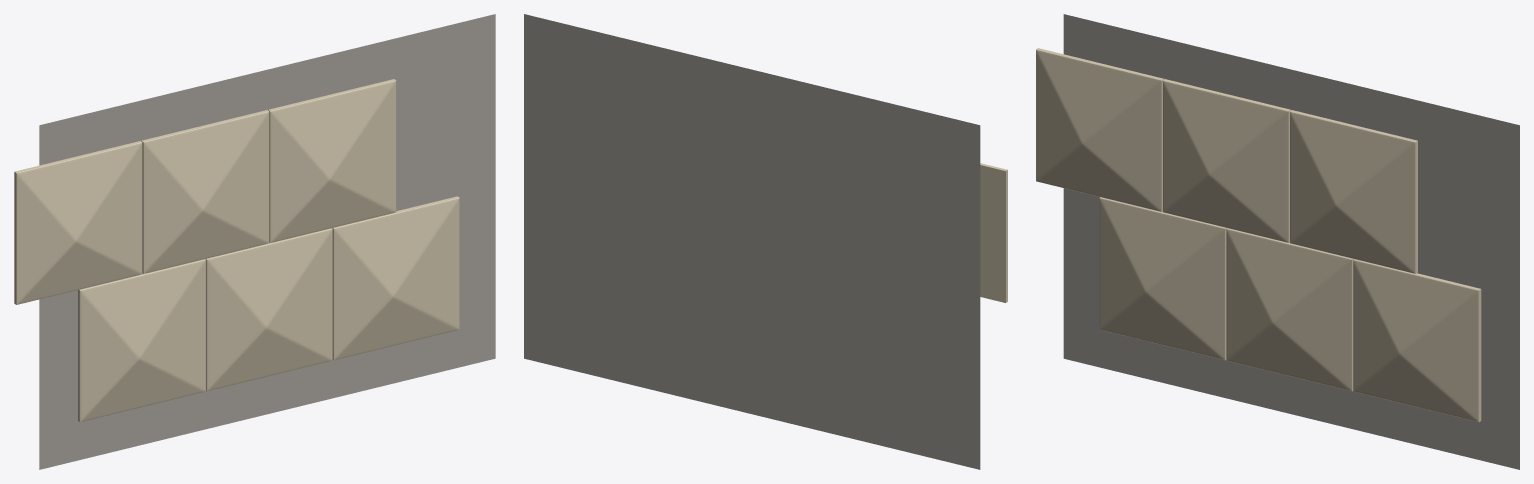
Rendered from terilgan.glb.
3 views of the same model, side by side, from view 1: azimuth 30°, elevation 25°; view 2: azimuth 150°, elevation 25°; view 3: azimuth 330°, elevation 25° (orthographic).
Parts seen in each view (by area): view 1: Plane, t1_0, t1_1, t1_2, t0_2, t0_0, t0_1; view 2: Plane, t1_0; view 3: Plane, t0_2, t1_2, t1_0, t1_1, t0_0, t0_1.
Boxes of the visible parts, box(x1,y1,x2,y2) form: Plane: box(39, 14, 495, 469); t1_0: box(14, 141, 142, 304); t1_1: box(141, 110, 269, 273); t1_2: box(268, 79, 396, 242); t0_2: box(332, 196, 459, 360); t0_0: box(78, 259, 205, 422); t0_1: box(205, 228, 332, 391); Plane: box(524, 14, 980, 469); t1_0: box(980, 163, 1007, 302); Plane: box(1063, 14, 1519, 469); t0_2: box(1353, 259, 1481, 422); t1_2: box(1290, 110, 1417, 273); t1_0: box(1036, 48, 1164, 211); t1_1: box(1163, 79, 1290, 242); t0_0: box(1099, 197, 1226, 360); t0_1: box(1226, 228, 1353, 391).
Bounding box in the file's own units: 1.91 × 1.31 × 0.0613.
